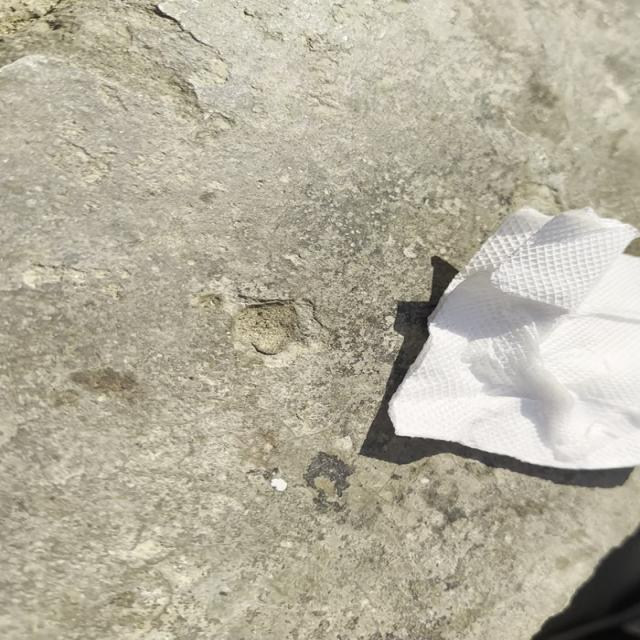tissue: (383, 201, 640, 467)
